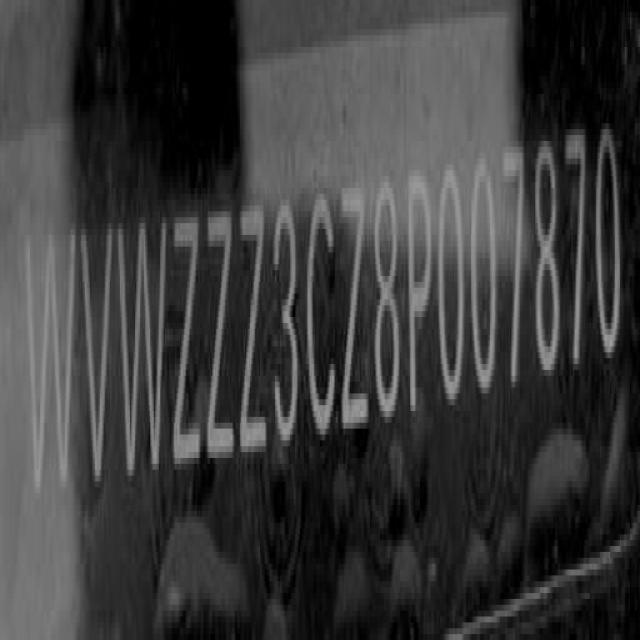0: (594, 118, 626, 372), (437, 158, 466, 410), (467, 148, 495, 406)
3: (272, 188, 300, 462)
7: (503, 141, 529, 398), (566, 122, 590, 379)
8: (374, 162, 402, 426), (533, 138, 562, 390)
C: (307, 186, 338, 450)
P: (404, 163, 432, 415)
V: (80, 211, 114, 494)
W: (115, 213, 167, 483), (26, 229, 70, 514)
Z: (173, 204, 204, 488), (205, 195, 233, 478), (238, 188, 266, 467), (341, 168, 367, 436)
